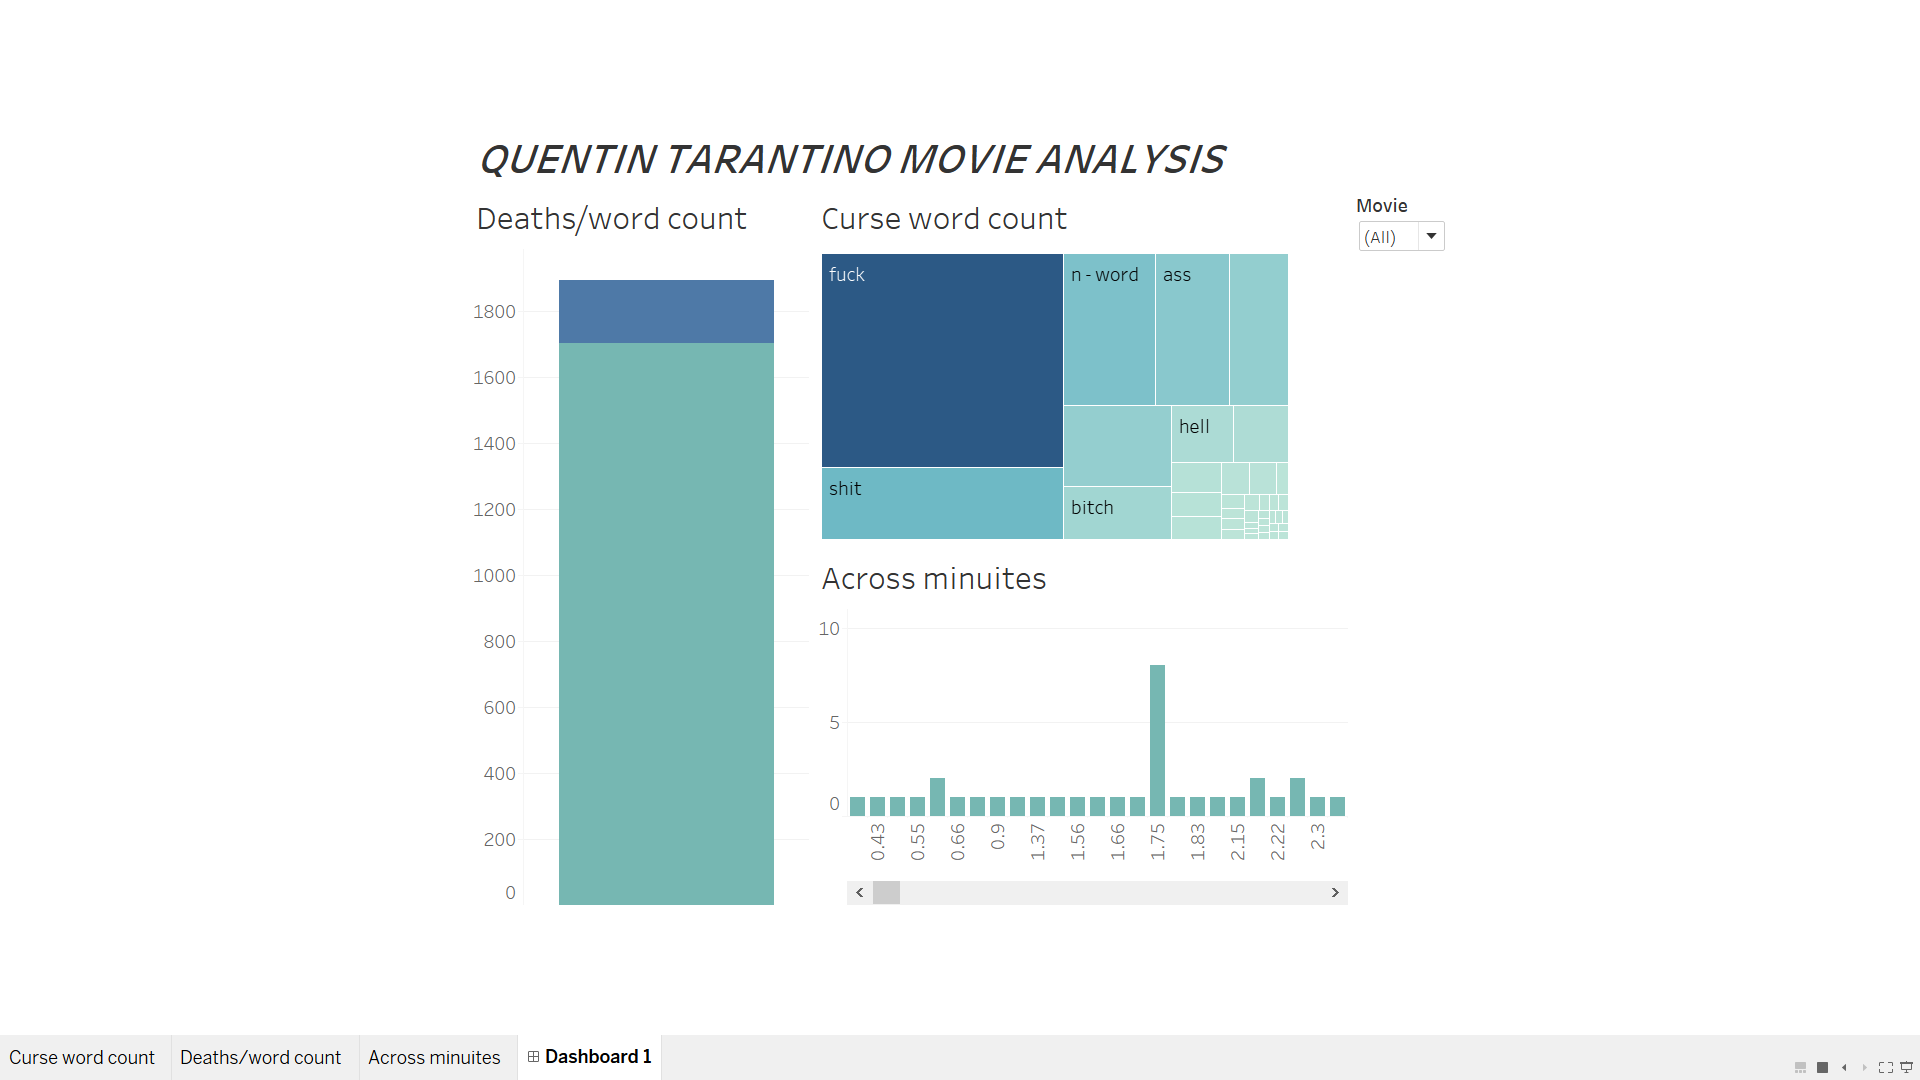

What the dashboard file says about the page in this screenshot:
{"tool":"tableau","page":{"name":"Dashboard 1","canvas":[1000,800],"ordinal":0},"visuals":[{"type":"worksheet","box":[0,0,1000,800]},{"type":"worksheet","param":"vert","box":[8,8,984,784]},{"type":"worksheet","box":[8,8,984,63]},{"type":"worksheet","param":"vert","box":[8,71,984,721]},{"type":"worksheet","param":"horz","box":[8,71,984,721]},{"type":"worksheet","box":[8,71,884,721]},{"type":"worksheet","title":"Deaths/word count","mark":"Automatic","rows":["tarantino1.csv_3C72D1D6C44F408C8BDC9B1A54815FAC"],"box":[8,71,344.6,721]},{"type":"worksheet","title":"Curse word count","mark":"Automatic","box":[352.6,71,539.4,360.5]},{"type":"worksheet","param":"vert","box":[892,71,100,721]},{"type":"worksheet","title":"Curse word count","mark":"Automatic","param":"[federated.1ntawod0egtu7617vbakq19wzbii].[none:movie:nk]","box":[892,71,100,70]},{"type":"worksheet","title":"Across minuites","mark":"Bar","rows":["type"],"cols":["minutes_in"],"box":[352.6,431.5,539.4,360.5]}]}

Visuals, with their boxes on the page's 1000x800 design canvas (x1, y1, x2, y2). These are canvas units, not pixel positions in the 1920x1080 screenshot, which may show the page scaled, cropped or inside an application window:
worksheet: x1=0, y1=0, x2=1000, y2=800
worksheet: x1=8, y1=8, x2=992, y2=792
worksheet: x1=8, y1=8, x2=992, y2=71
worksheet: x1=8, y1=71, x2=992, y2=792
worksheet: x1=8, y1=71, x2=992, y2=792
worksheet: x1=8, y1=71, x2=892, y2=792
"Deaths/word count" worksheet: x1=8, y1=71, x2=353, y2=792
"Curse word count" worksheet: x1=353, y1=71, x2=892, y2=432
worksheet: x1=892, y1=71, x2=992, y2=792
"Curse word count" worksheet: x1=892, y1=71, x2=992, y2=141
"Across minuites" worksheet (Bar marks): x1=353, y1=432, x2=892, y2=792
